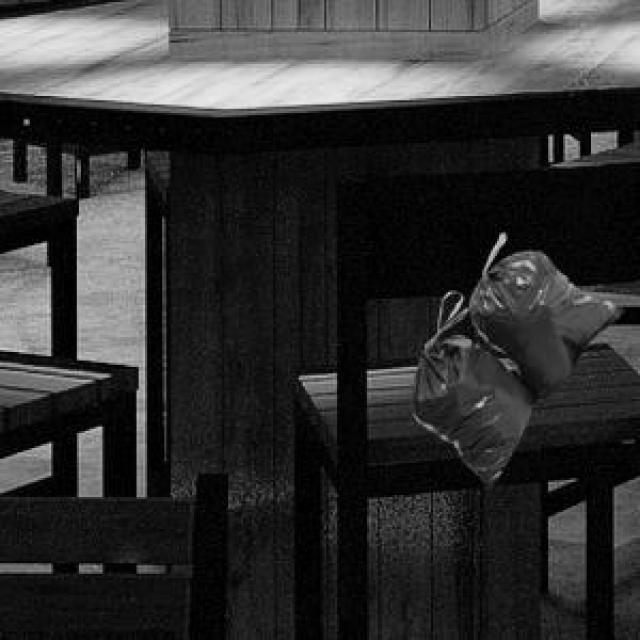miscellaneous trash: (408, 230, 619, 484)
